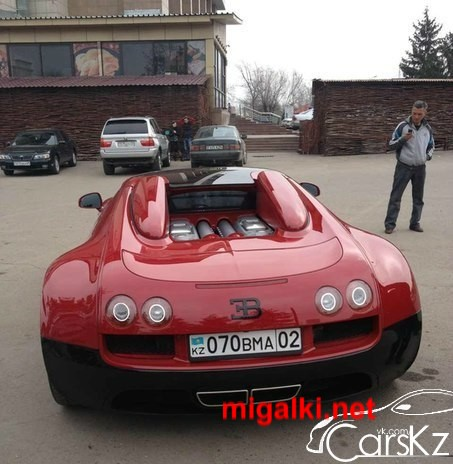license_plate: (188, 331, 302, 353)
